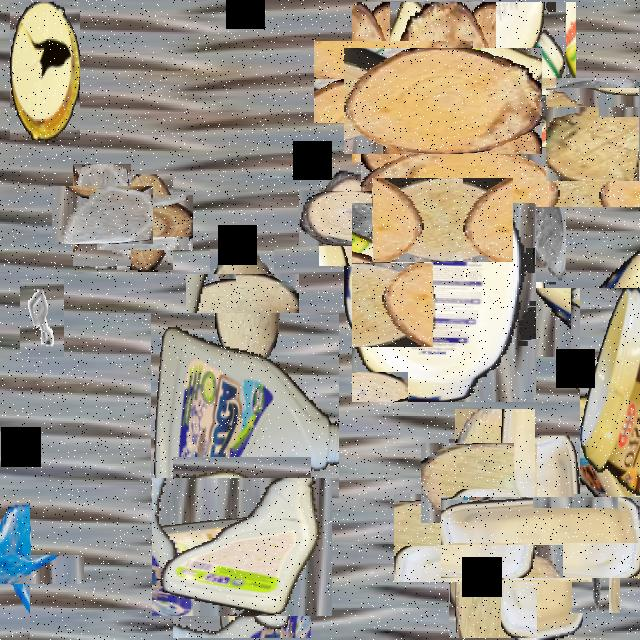glass: (504, 2, 576, 130), (62, 175, 142, 255), (0, 526, 57, 611)
metal: (514, 439, 574, 546), (572, 528, 620, 613), (20, 279, 64, 357)
plastic: (398, 39, 604, 245), (348, 206, 540, 398), (151, 313, 339, 498), (162, 468, 322, 627), (471, 466, 613, 608), (207, 386, 273, 602), (580, 288, 640, 501), (545, 261, 640, 382), (10, 2, 80, 140)
wood: (367, 25, 519, 178), (421, 467, 565, 610), (332, 21, 453, 142), (438, 426, 552, 541), (386, 164, 498, 277), (546, 87, 640, 182), (198, 262, 286, 351), (107, 184, 183, 260), (309, 180, 385, 256)
